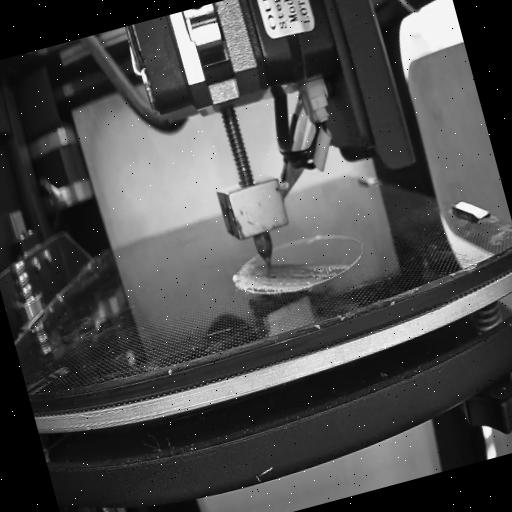under_extrusion: (292, 257, 348, 289), (243, 272, 291, 300)
